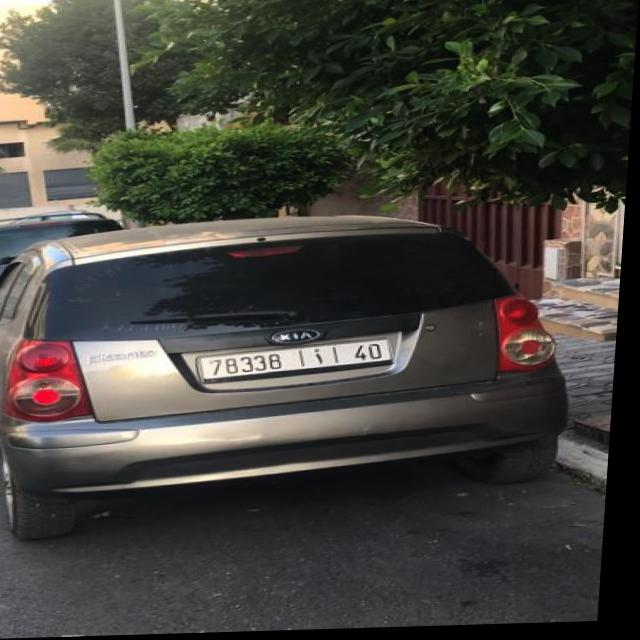License-Plate: (201, 342, 395, 384)
